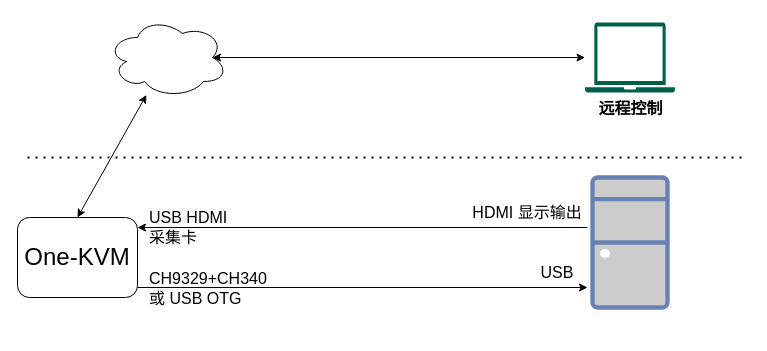
Some shapes in this 767 by 351 pixel diagram are drawn without their labels. The shapes that lost their labels are listed below. From the top down, each one's centre as x and y in pixels, then its label:
pixel 167 57: 互联网
pixel 629 242: 被控机
